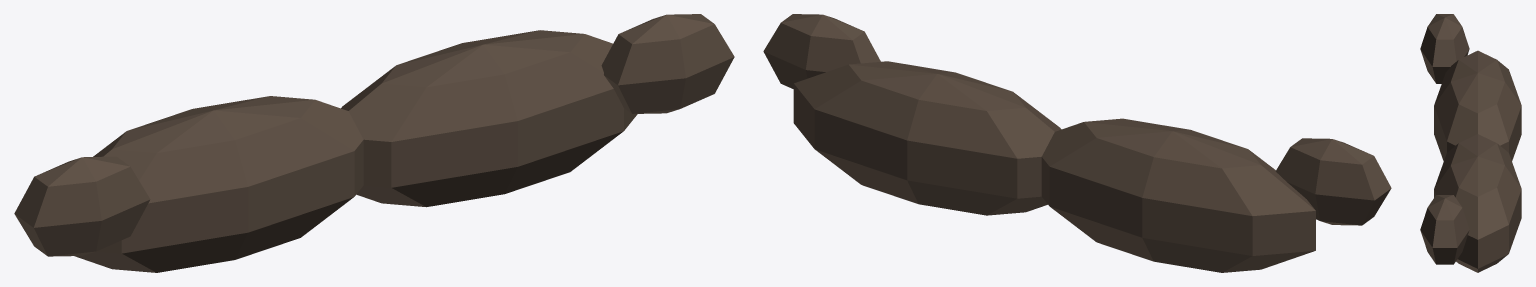
The model's file is face_mustache.glb.
3 renders of one model, left to right at view 1: azimuth 30°, elevation 25°; view 2: azimuth 150°, elevation 25°; view 3: azimuth 270°, elevation 25°, orthographic. The views are drawn at different scales.
Parts seen in each view (by area): view 1: Head; view 2: Head; view 3: Head.
Part boxes in pixels (x1,y1,x2,y2): Head: (14, 14, 734, 272); Head: (763, 14, 1391, 272); Head: (1420, 14, 1521, 272).
Bounding box in the file's own units: 0.312 × 0.0675 × 0.0616.
